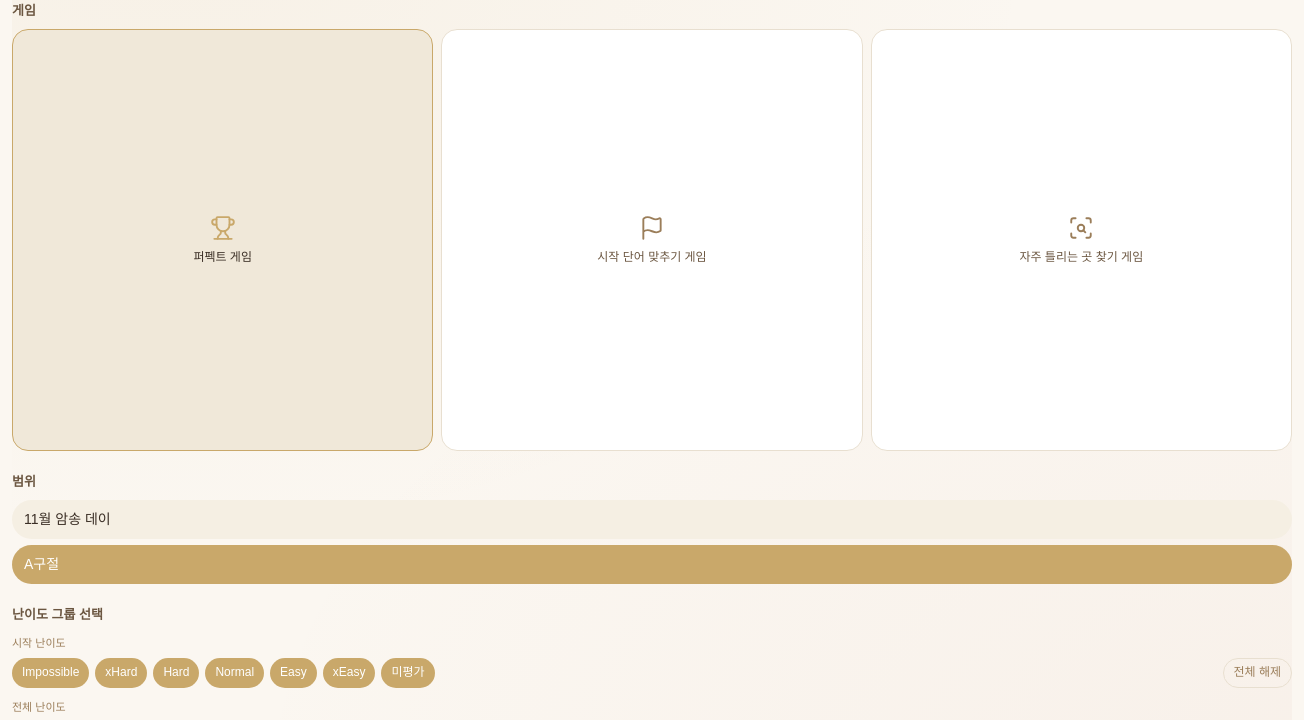
Test: QuizScopePicker — games › counts attempts in the tier-filtered pool, not the raw items
The image size is (1304, 720).
Click the button "자주 틀리는 곳 찾기 게임": (1081, 240) x1=871 y1=29 x2=1292 y2=451
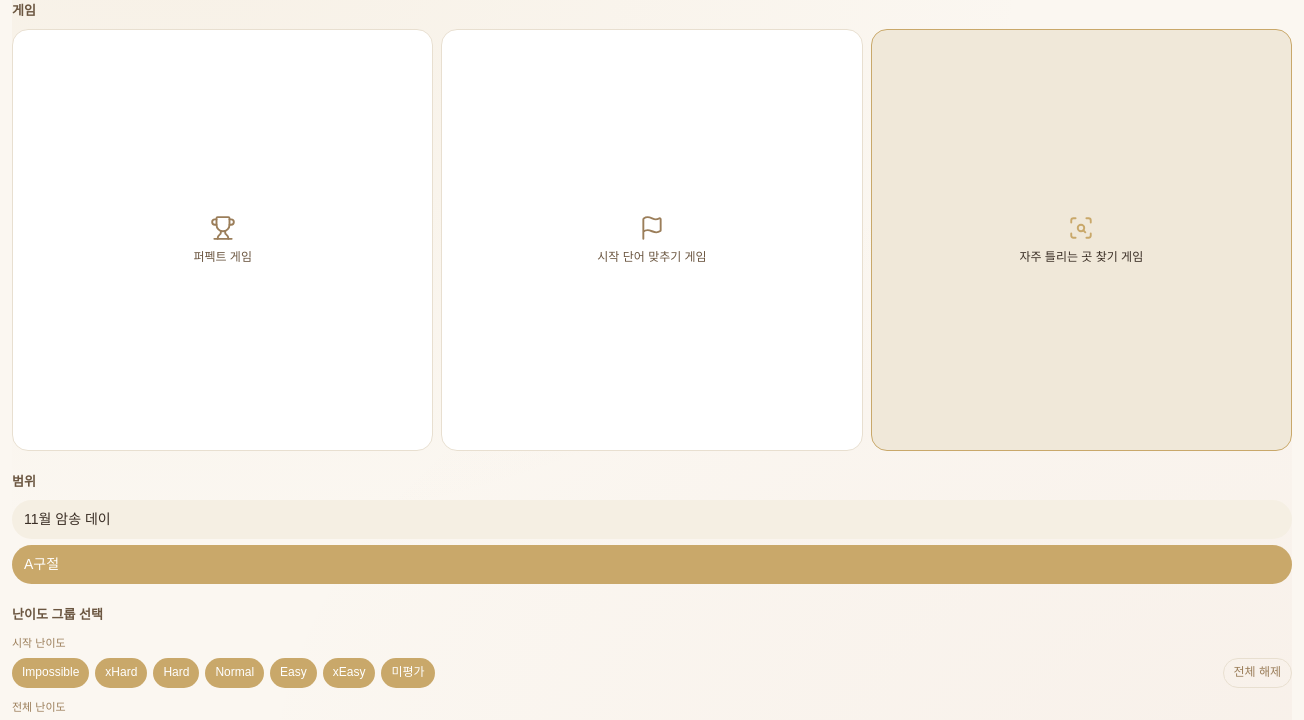
Click the button "xHard": (121, 673) x1=95 y1=658 x2=147 y2=688
(page scrolled)
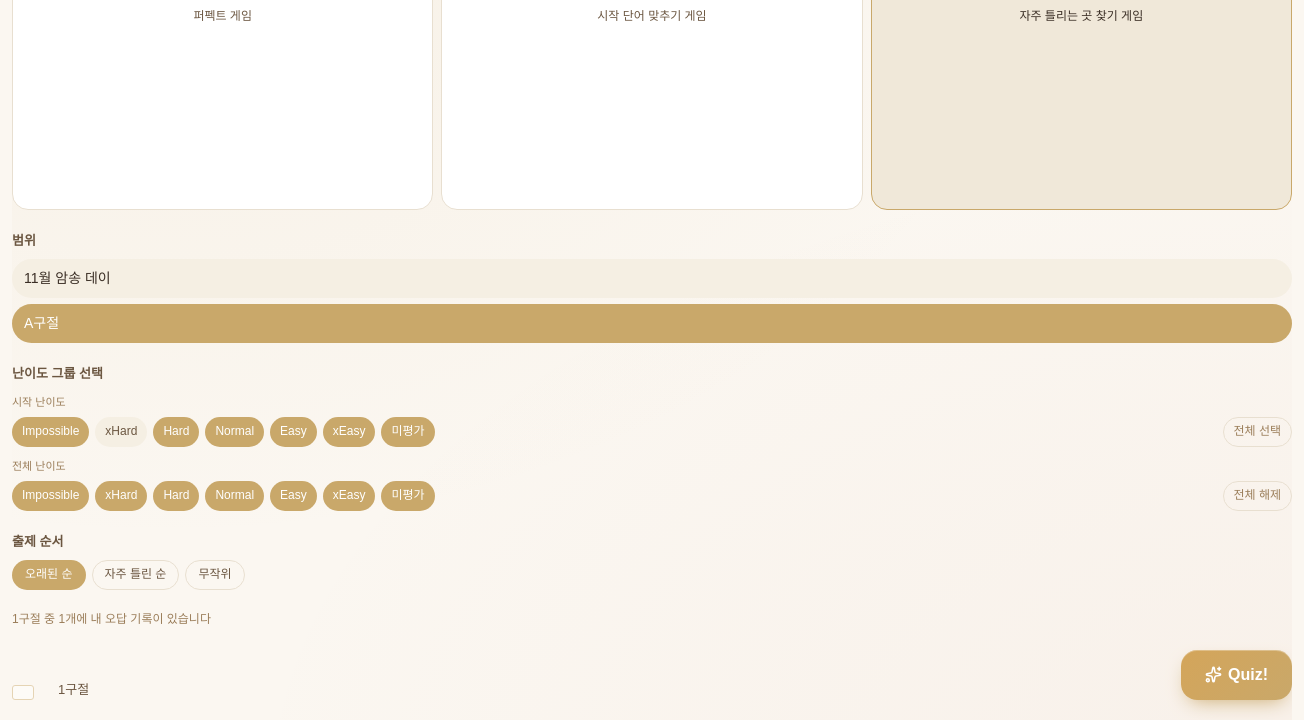
Now the text "1구절 중 1개에 내 오답 기록이 있습니다" is shown, box x1=12 y1=612 x2=211 y2=626
